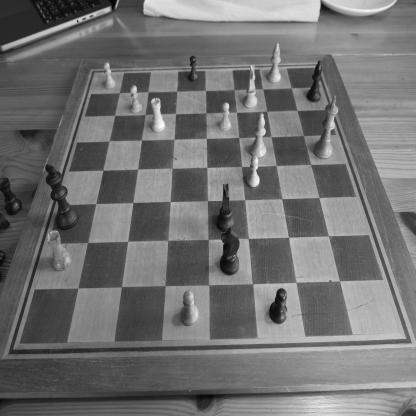black-bishop: (306, 60, 323, 103)
black-king: (45, 163, 79, 231)
black-knight: (220, 226, 240, 276), (217, 182, 235, 232)
black-pawn: (269, 287, 288, 325), (188, 55, 199, 82)
black-rook: (0, 177, 23, 216)
white-bishop: (249, 112, 267, 158), (266, 42, 282, 84)
white-king: (313, 95, 339, 160)
white-knight: (243, 63, 258, 108)
white-pawn: (180, 289, 198, 327), (246, 155, 260, 188), (103, 62, 116, 90), (130, 84, 142, 114), (220, 102, 232, 132)
white-rook: (46, 229, 72, 272), (150, 97, 165, 133)
